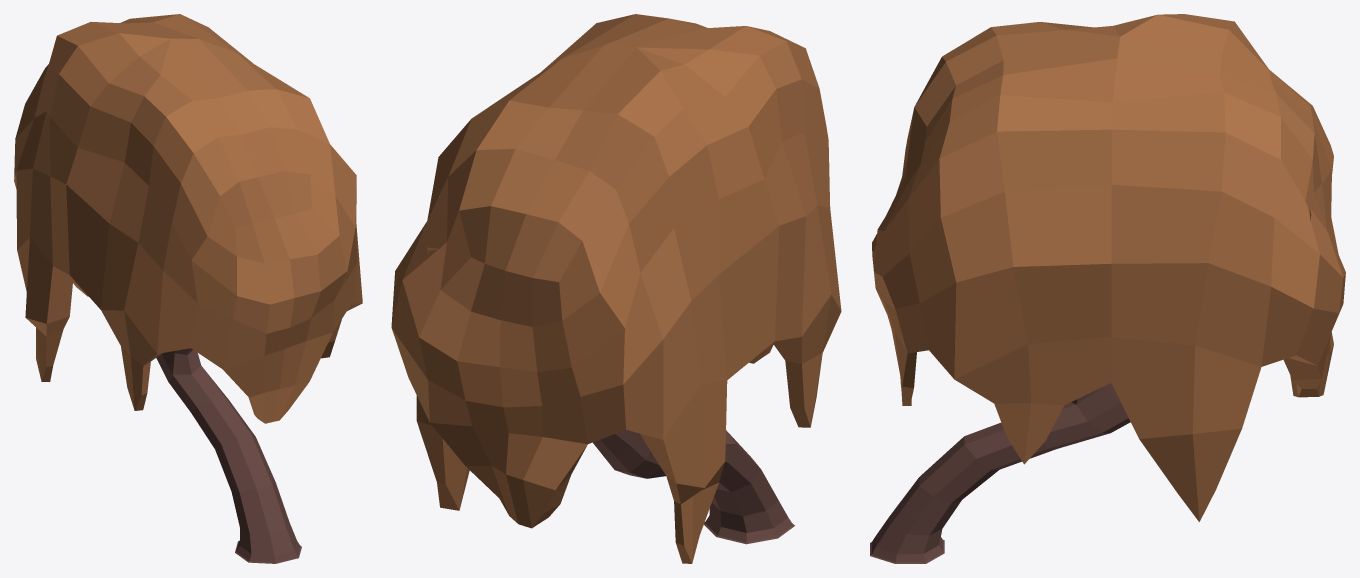
Rendered from Willow_Autumn_3-transformed.glb.
3 renders of one model, left to right at view 1: azimuth 30°, elevation 25°; view 2: azimuth 150°, elevation 25°; view 3: azimuth 270°, elevation 25°, orthographic. The views are drawn at different scales.
Parts seen in each view (by area): view 1: Willow_Autumn_3; view 2: Willow_Autumn_3; view 3: Willow_Autumn_3.
Part boxes in pixels (x1,y1,x2,y2): Willow_Autumn_3: (14, 14, 362, 563); Willow_Autumn_3: (391, 14, 841, 563); Willow_Autumn_3: (870, 14, 1345, 563).
Size of the model in its own units: 1.32 by 2.35 by 1.98.
